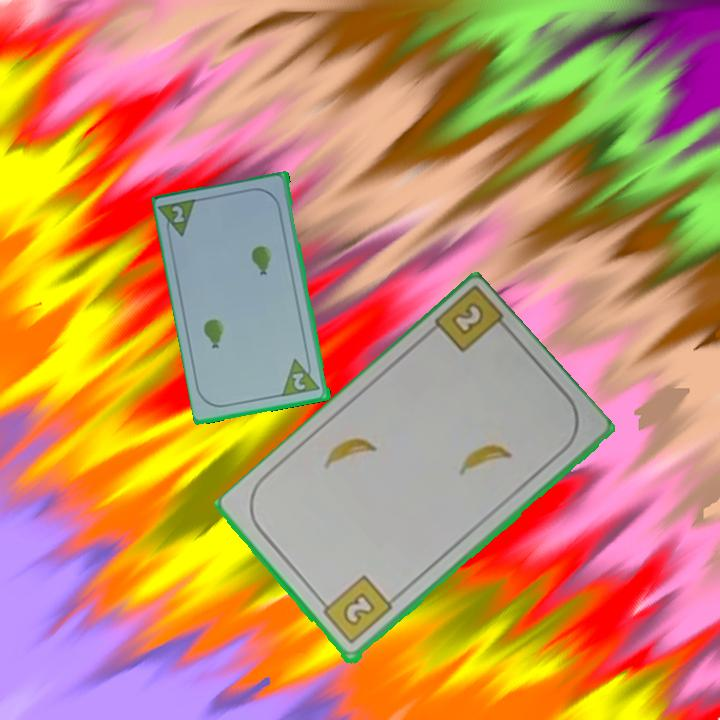2b: (315, 572, 395, 648), (447, 299, 488, 339)
2p: (157, 195, 201, 243), (289, 369, 309, 393)
